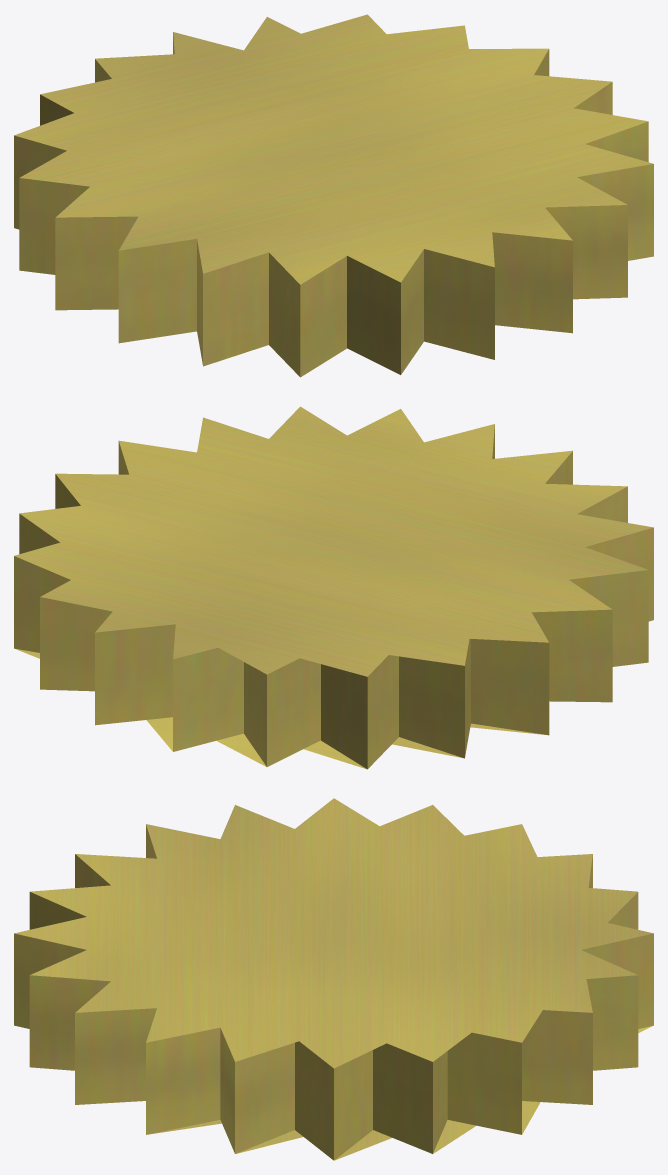
The model's file is ClockStraight3Spoke020.fbx.
The picture shows the model from 3 angles, top to bottom: view 1: azimuth 30°, elevation 25°; view 2: azimuth 150°, elevation 25°; view 3: azimuth 270°, elevation 25°; orthographic projection.
Visible parts, largest first — view 1: ClockStraight3Spoke020; view 2: ClockStraight3Spoke020; view 3: ClockStraight3Spoke020.
Boxes of the visible parts, box(x1,y1,x2,y2) form: ClockStraight3Spoke020: box(14, 14, 653, 377); ClockStraight3Spoke020: box(14, 406, 653, 769); ClockStraight3Spoke020: box(14, 798, 653, 1160).
Bounding box in the file's own units: 124 × 19.69 × 124.
